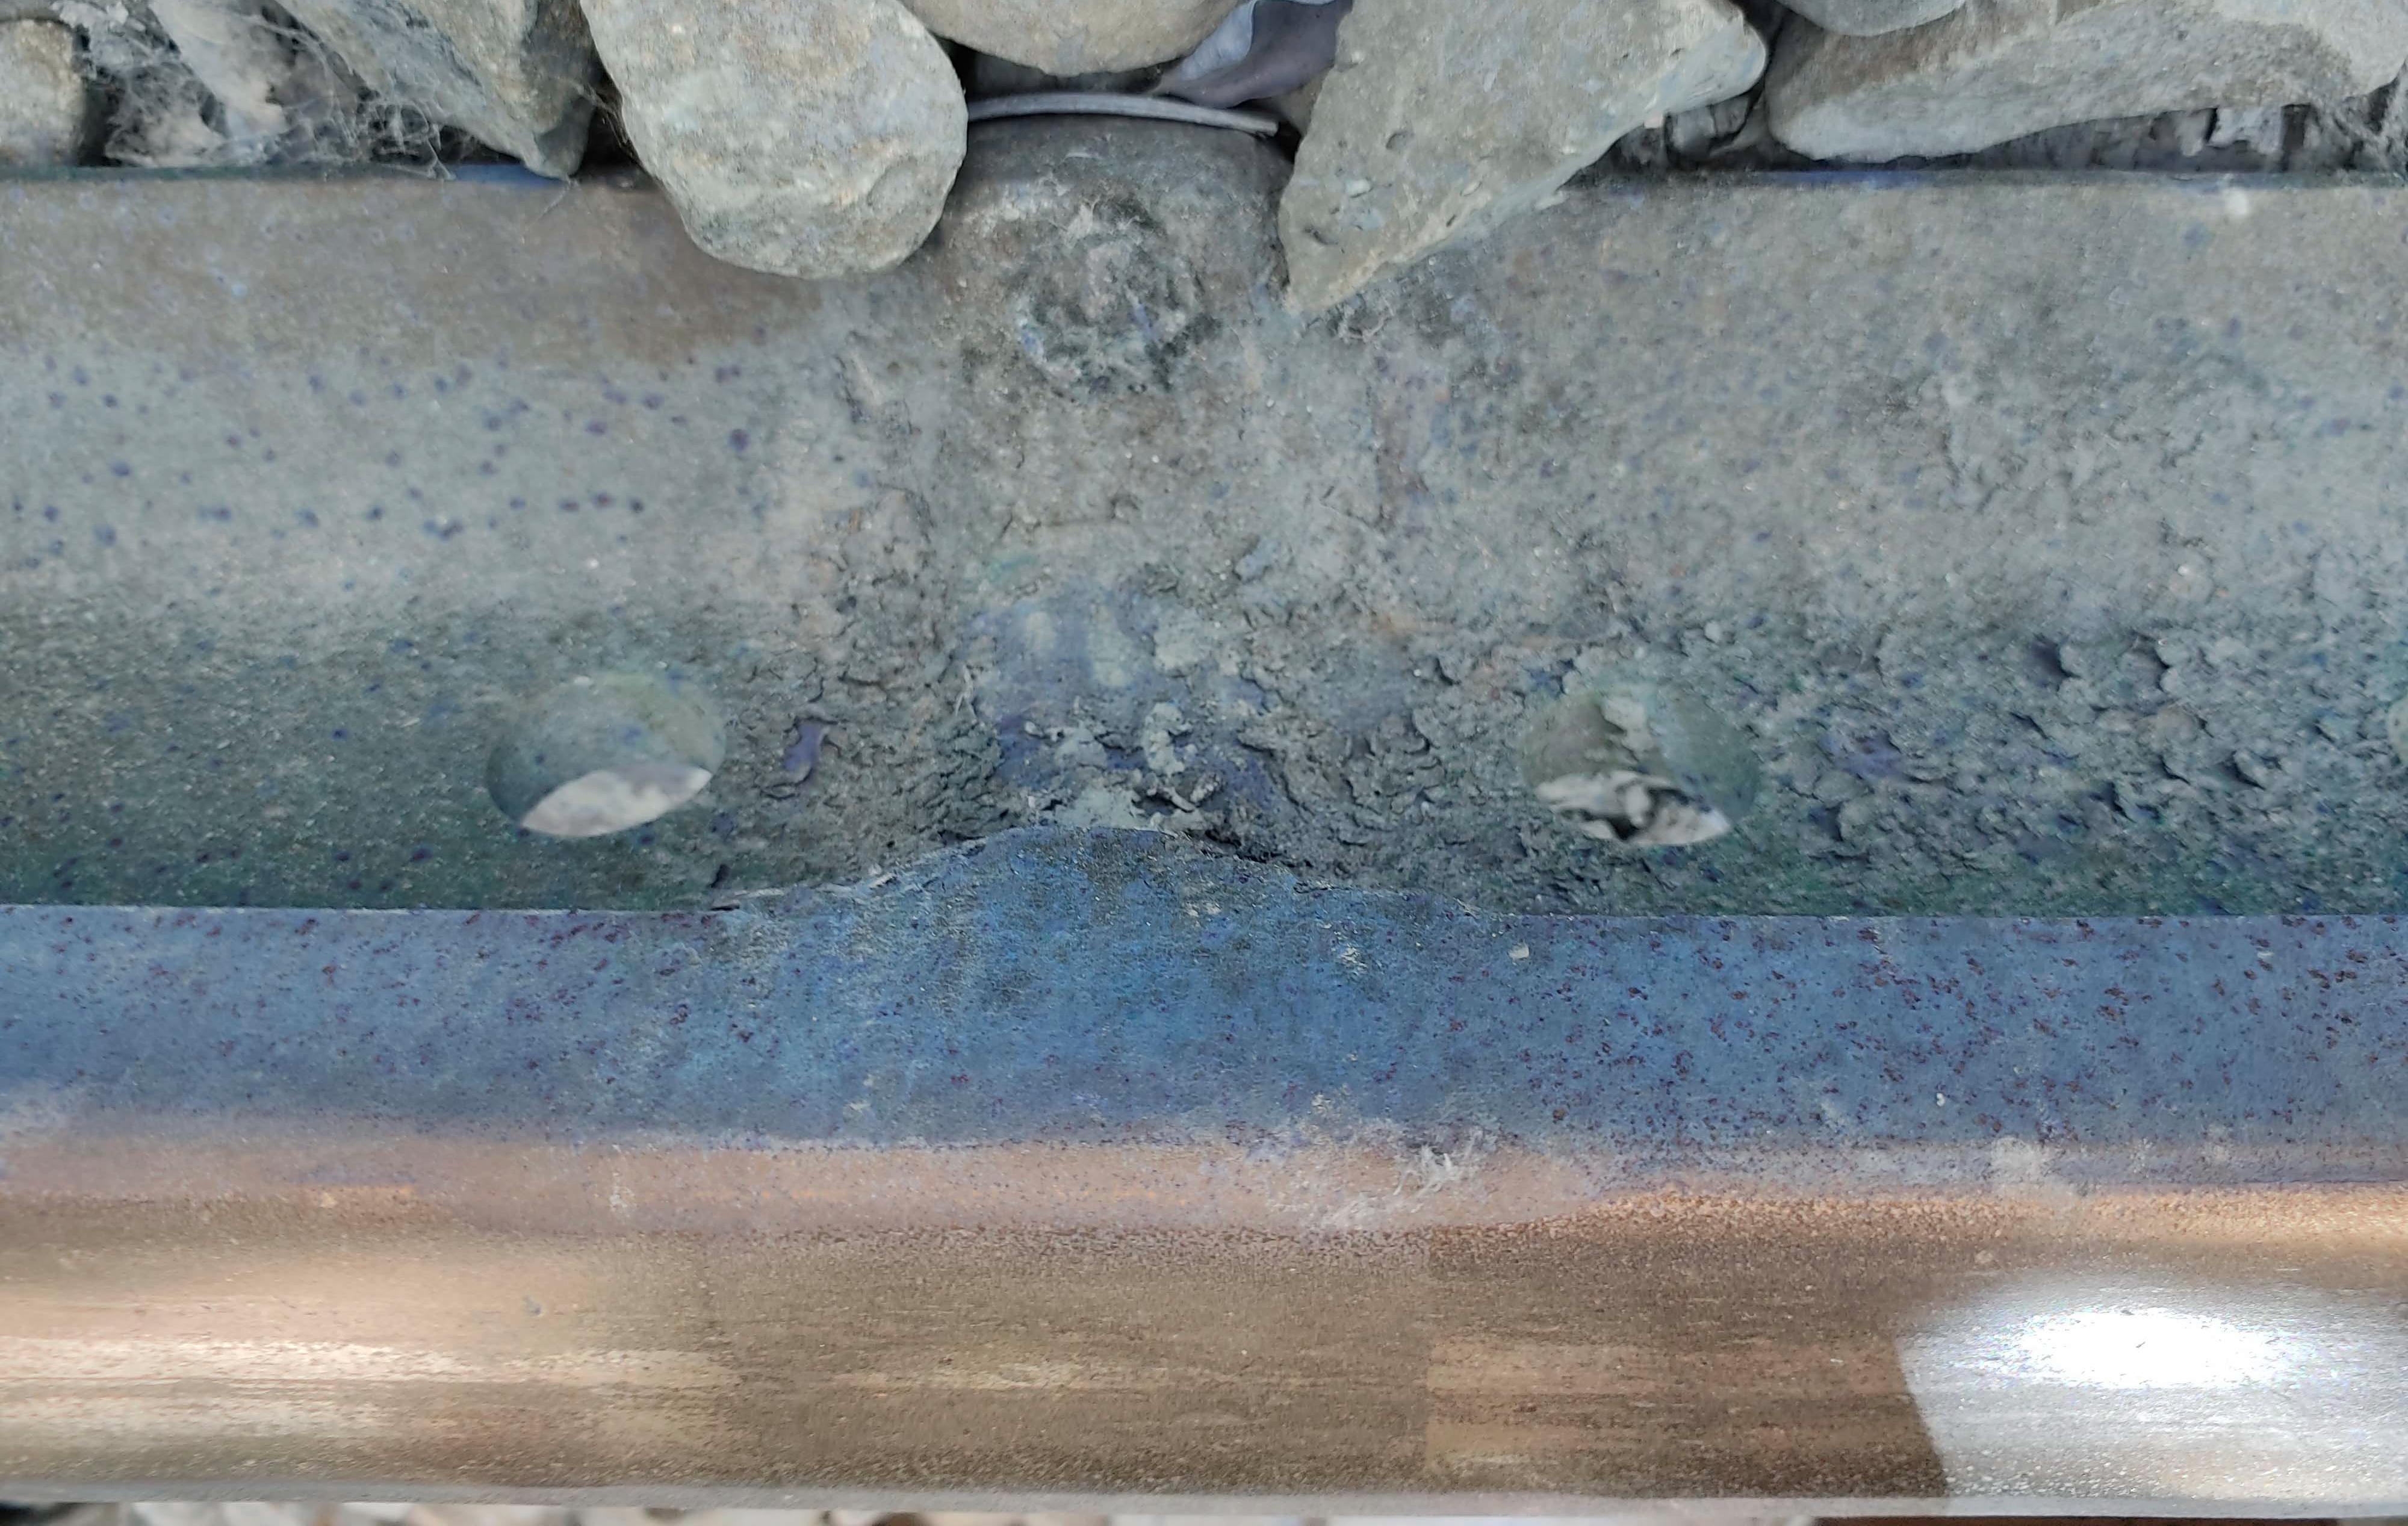error3: (904, 151, 1362, 937)
